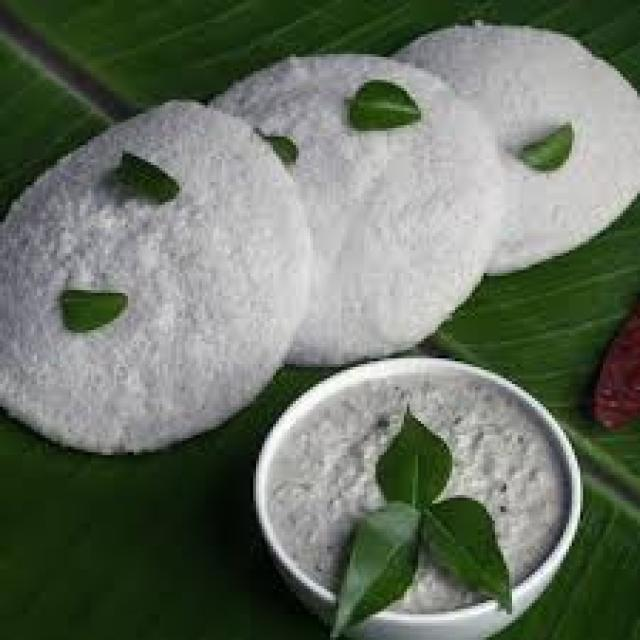IDLI: (4, 105, 311, 464), (204, 47, 489, 373), (404, 30, 636, 276)
